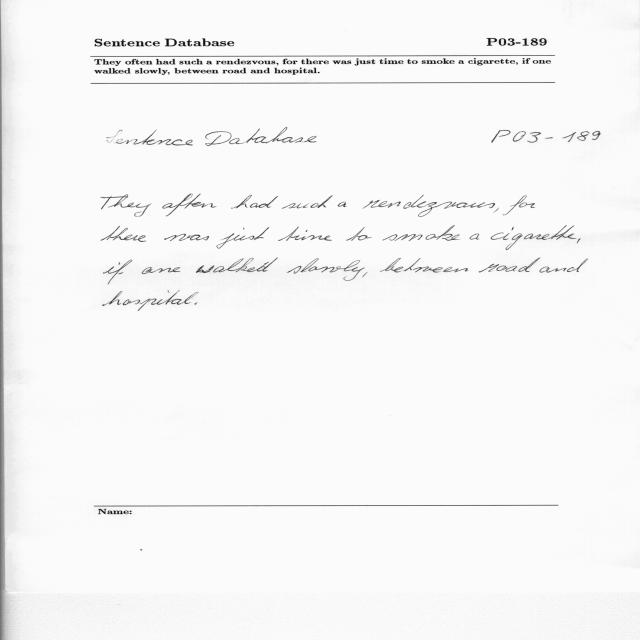word: (363, 195, 495, 217), (491, 225, 577, 250), (205, 127, 317, 146), (103, 290, 199, 311), (287, 258, 365, 281), (491, 130, 601, 143), (106, 130, 193, 145), (380, 258, 469, 272), (163, 194, 217, 217), (383, 225, 460, 241), (196, 258, 278, 273), (101, 194, 151, 217), (217, 227, 269, 249), (479, 258, 540, 272), (278, 226, 332, 241), (101, 226, 146, 242), (282, 195, 332, 209), (539, 259, 588, 273), (104, 260, 132, 284), (231, 195, 278, 209), (503, 196, 535, 216), (346, 227, 372, 241), (164, 234, 209, 241), (142, 267, 180, 274), (470, 234, 480, 240), (338, 202, 347, 207), (363, 272, 368, 277), (494, 209, 499, 213), (577, 238, 580, 244), (195, 302, 198, 305)
